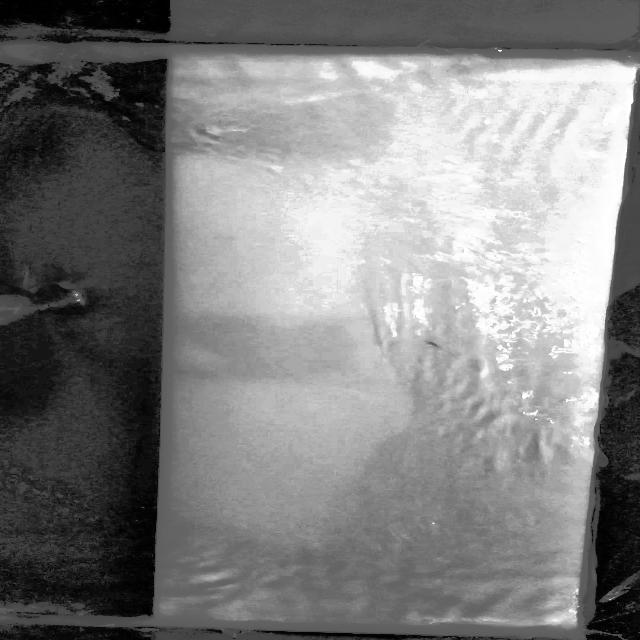shrimp: (415, 334, 449, 355)
